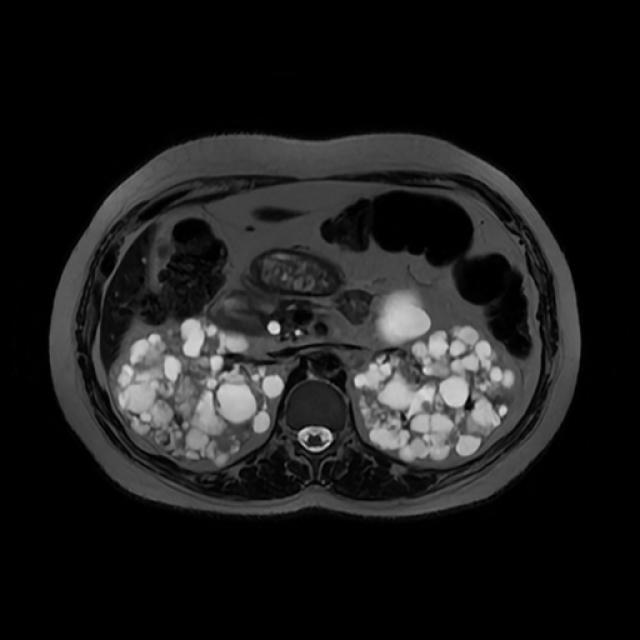sag: (119, 321, 285, 467)
sol: (355, 294, 511, 461)
